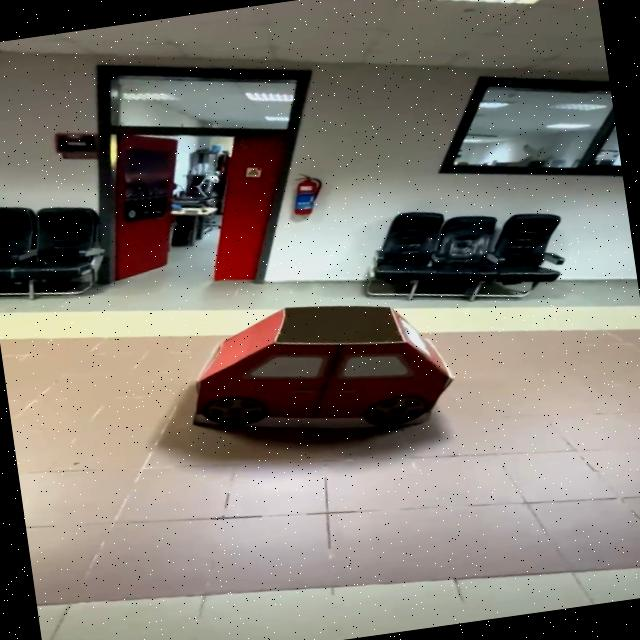red_car: (160, 270, 485, 464)
